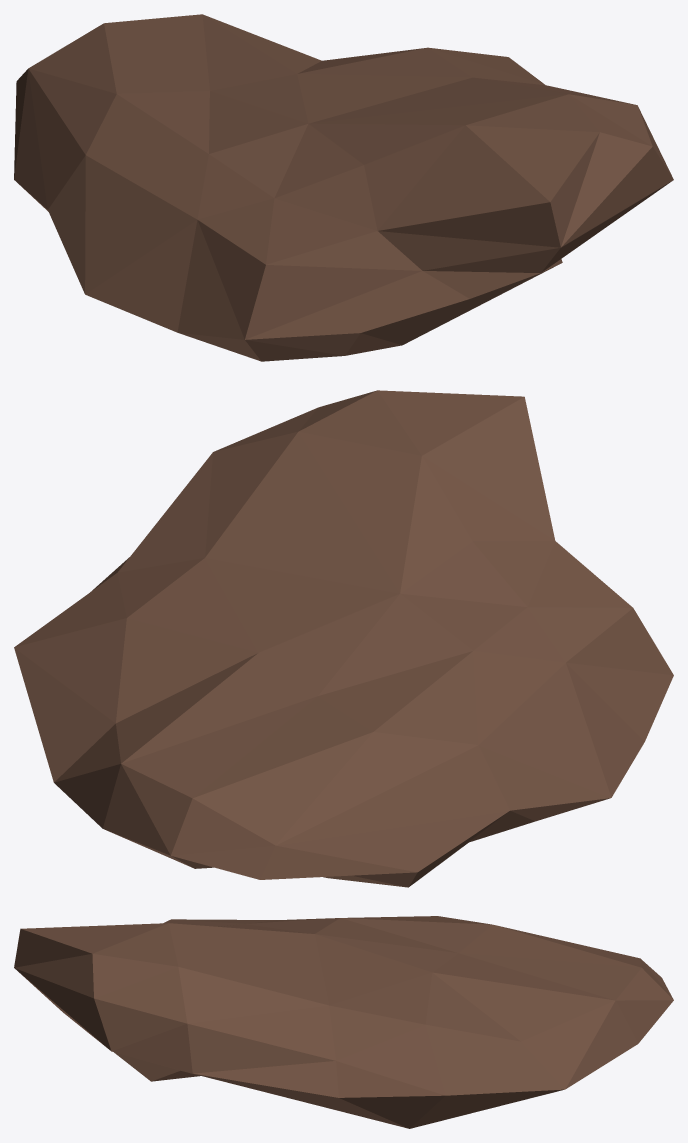
The model's file is large_rock5.glb.
3 views of the same model, one above another, from view 1: azimuth 30°, elevation 25°; view 2: azimuth 150°, elevation 25°; view 3: azimuth 270°, elevation 25° (orthographic). The views are drawn at different scales.
Parts seen in each view (by area): view 1: large_rock5; view 2: large_rock5; view 3: large_rock5.
Boxes of the visible parts, bbox=[...] form: large_rock5: bbox=[14, 14, 673, 361]; large_rock5: bbox=[14, 390, 673, 887]; large_rock5: bbox=[14, 916, 673, 1128].
Size of the model in its own units: 5.09 by 2.18 by 7.21.
